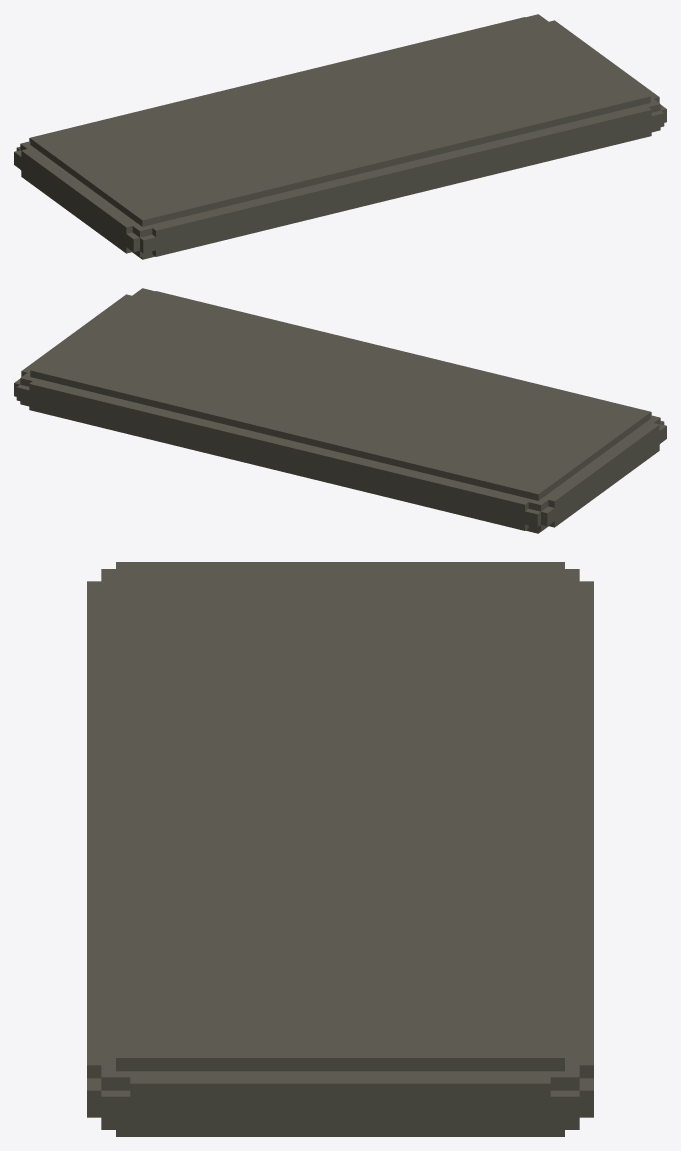
File: factory4.4-39.obj
3 views of the same model, one above another, from view 1: azimuth 30°, elevation 25°; view 2: azimuth 150°, elevation 25°; view 3: azimuth 270°, elevation 25° (orthographic). The views are drawn at different scales.
Bounding box in the file's own units: 8.5 × 0.6 × 3.5.
Materials: 1 (1 with a texture image).
